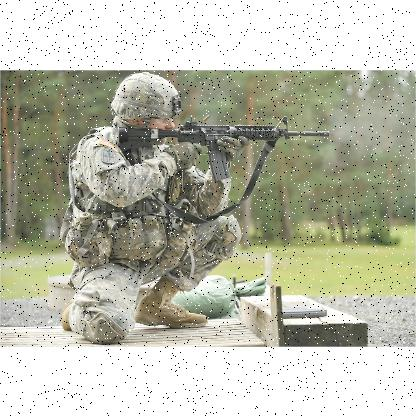gun: (118, 114, 328, 178)
